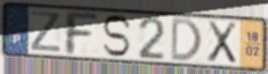2: (137, 15, 166, 61)
D: (169, 16, 203, 63)
F: (62, 10, 101, 57)
S: (101, 13, 133, 59)
X: (206, 20, 239, 66)
Z: (29, 9, 64, 54)
